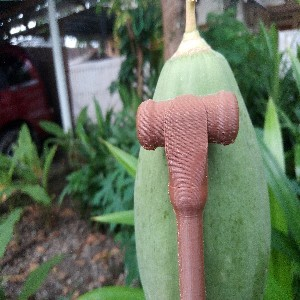palu: (135, 89, 239, 300)
